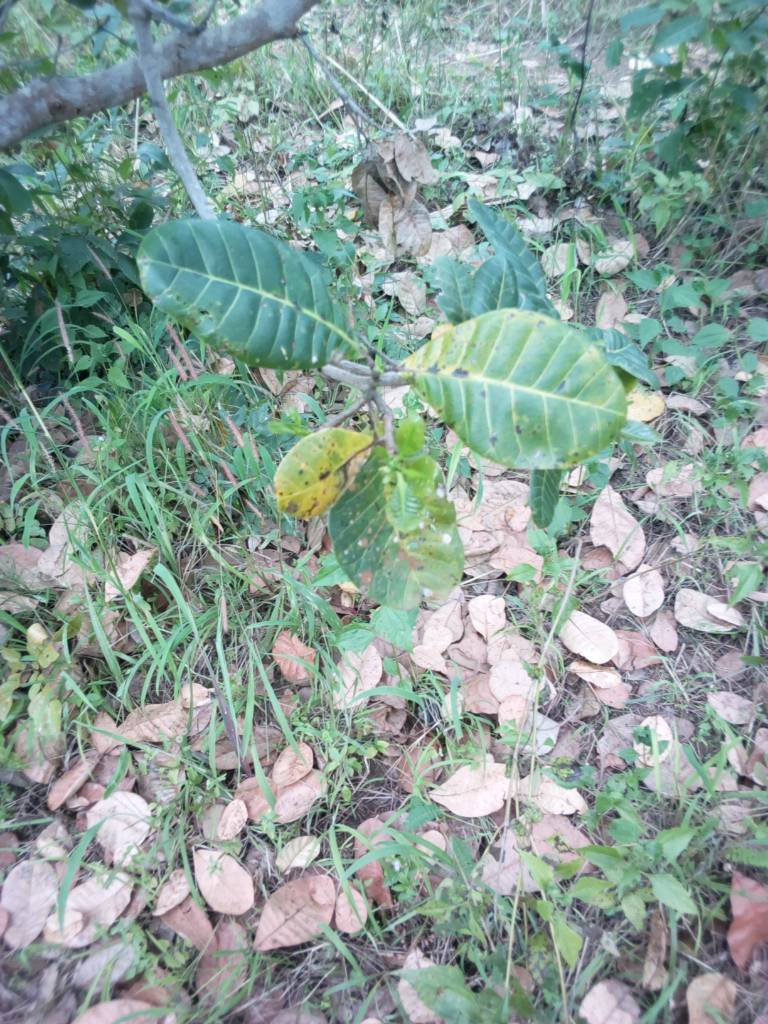Bactériose: (405, 313, 625, 467), (333, 414, 463, 603), (272, 427, 379, 519)
